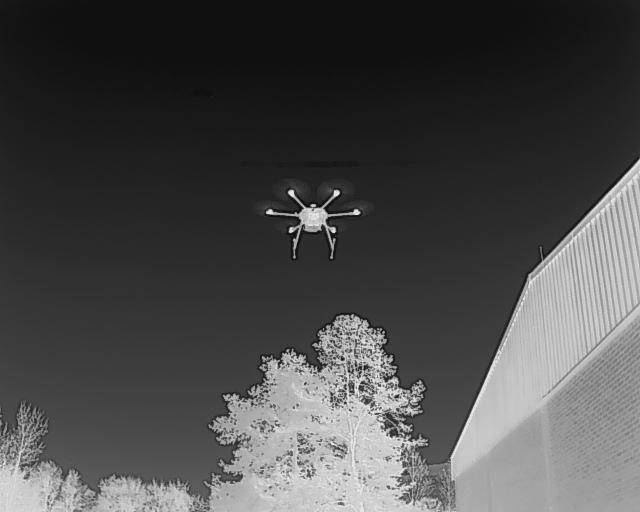drone: (249, 174, 375, 269)
